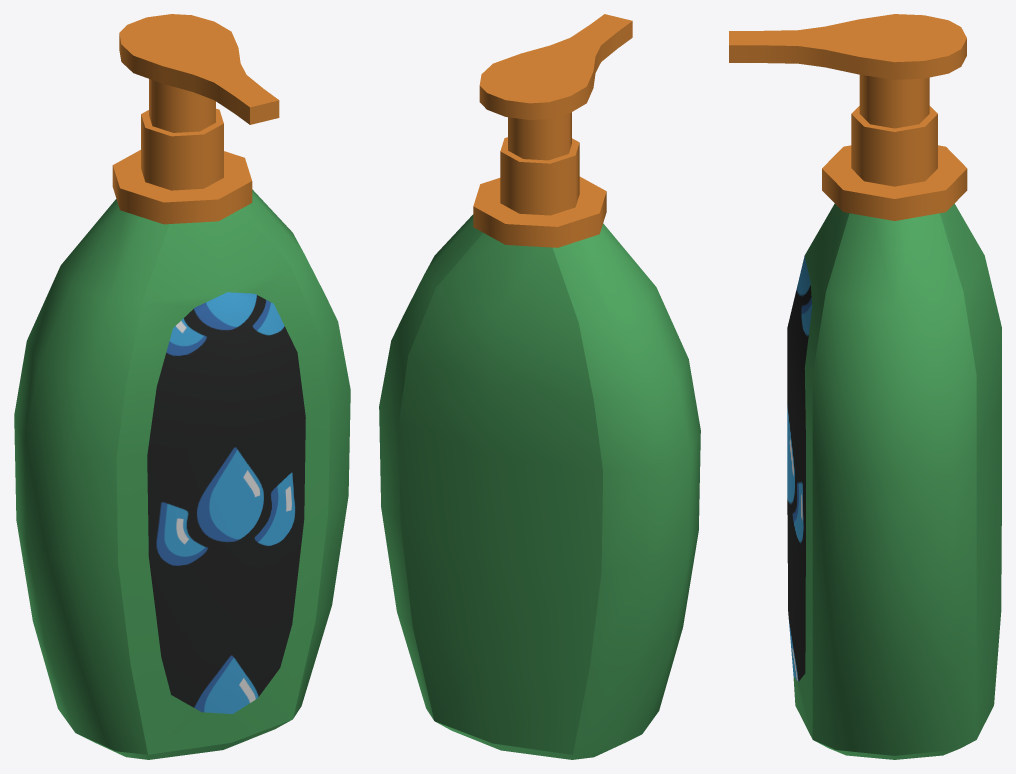
File: PlasticBottle_05.fbx
3 renders of one model, left to right at view 1: azimuth 30°, elevation 25°; view 2: azimuth 150°, elevation 25°; view 3: azimuth 270°, elevation 25°, orthographic. The views are drawn at different scales.
Visible parts, largest first — view 1: PlasticBottle_05, PlasticBottle_05_Top; view 2: PlasticBottle_05, PlasticBottle_05_Top; view 3: PlasticBottle_05, PlasticBottle_05_Top.
Boxes of the visible parts, <box> form: PlasticBottle_05: <box>14,108,350,759</box>; PlasticBottle_05_Top: <box>119,14,279,132</box>; PlasticBottle_05: <box>379,137,700,759</box>; PlasticBottle_05_Top: <box>479,14,632,160</box>; PlasticBottle_05: <box>787,106,1001,759</box>; PlasticBottle_05_Top: <box>729,14,966,128</box>.
Bounding box in the file's own units: 0.141 × 0.2888 × 0.1049.
